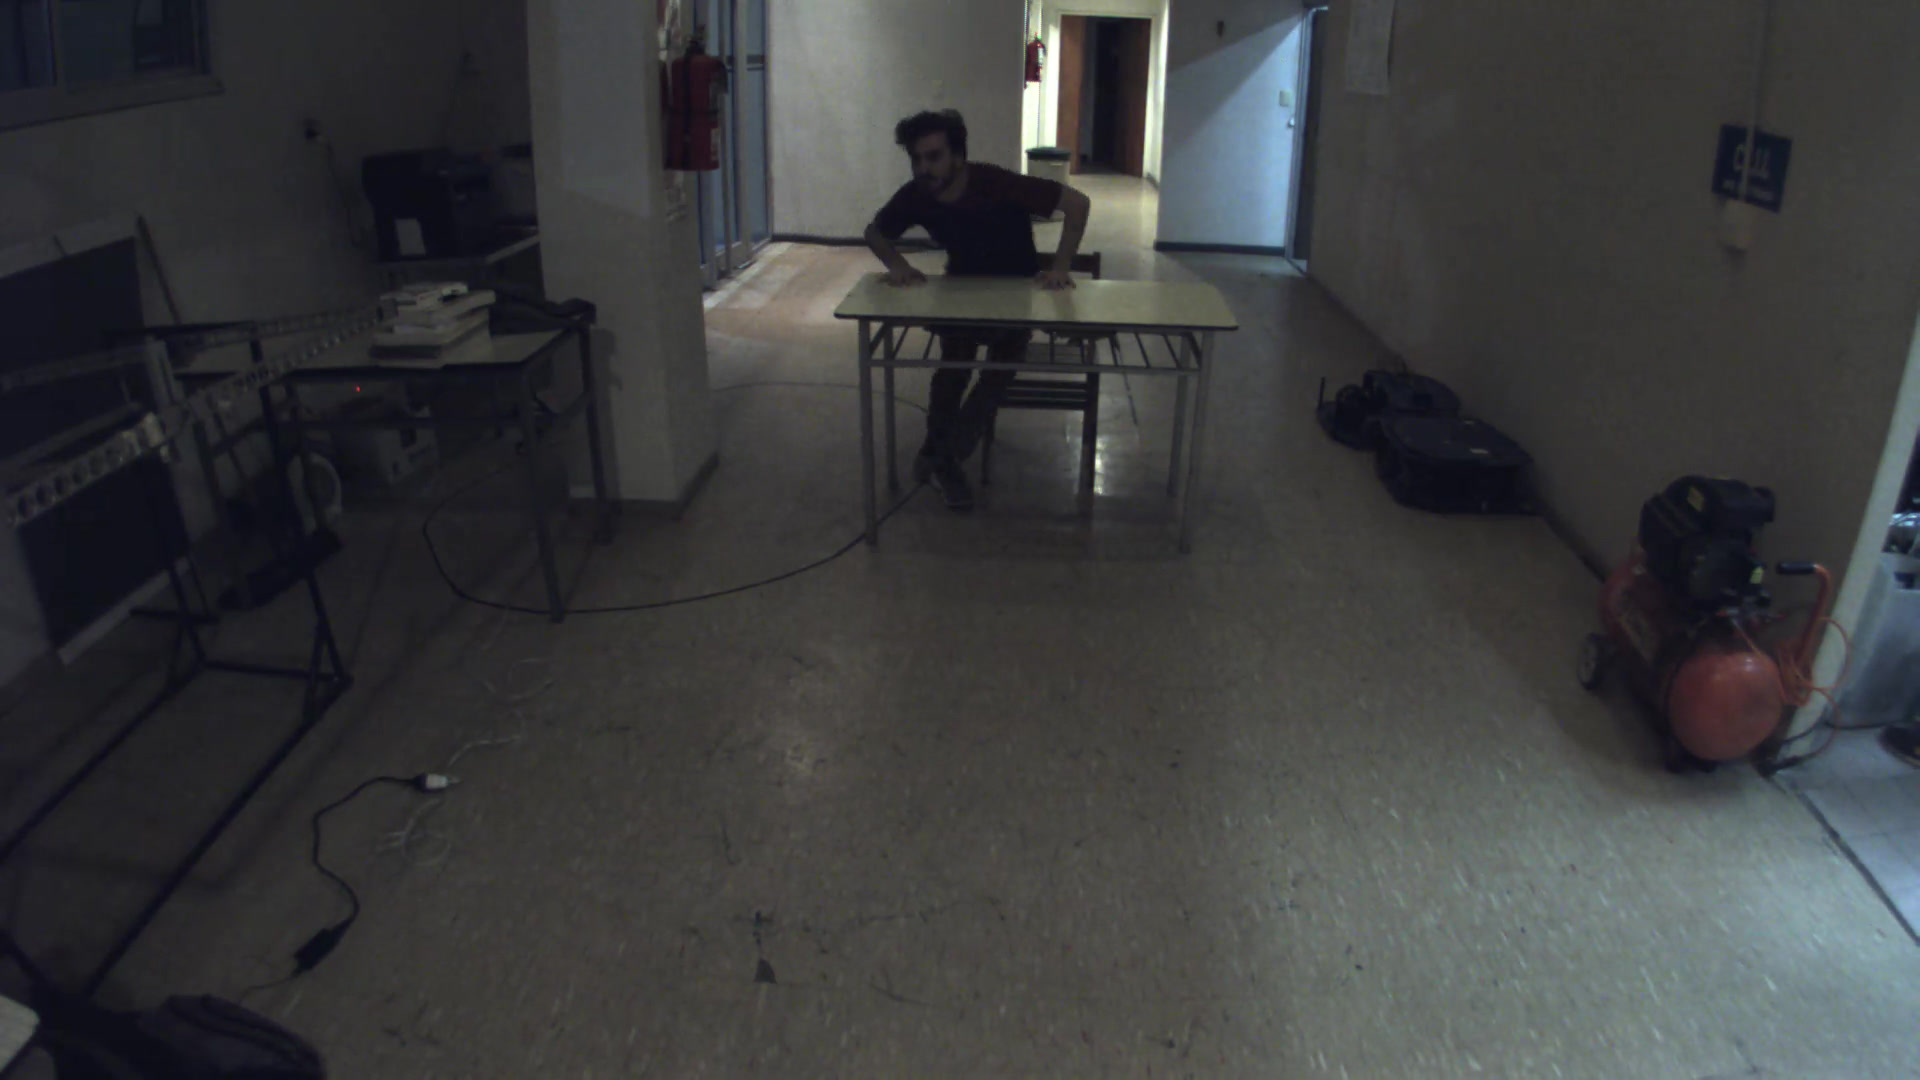hand: (1018, 266, 1081, 301), (877, 260, 930, 289)
